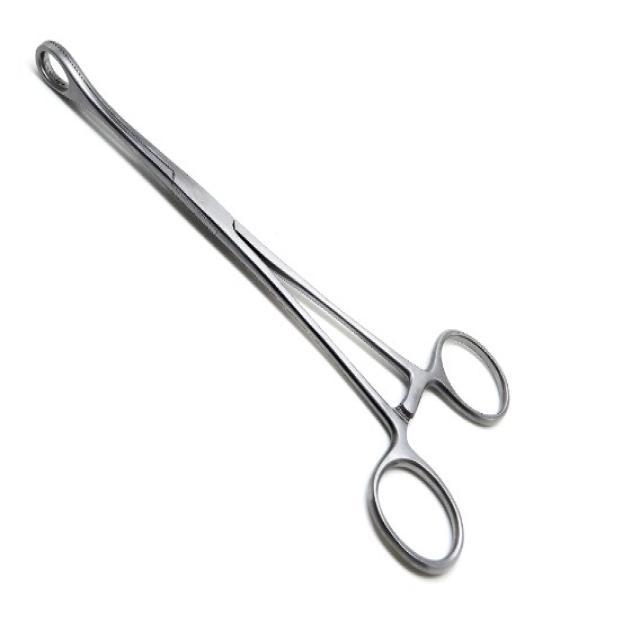Sponge Holding Forceps: (27, 28, 516, 579)
